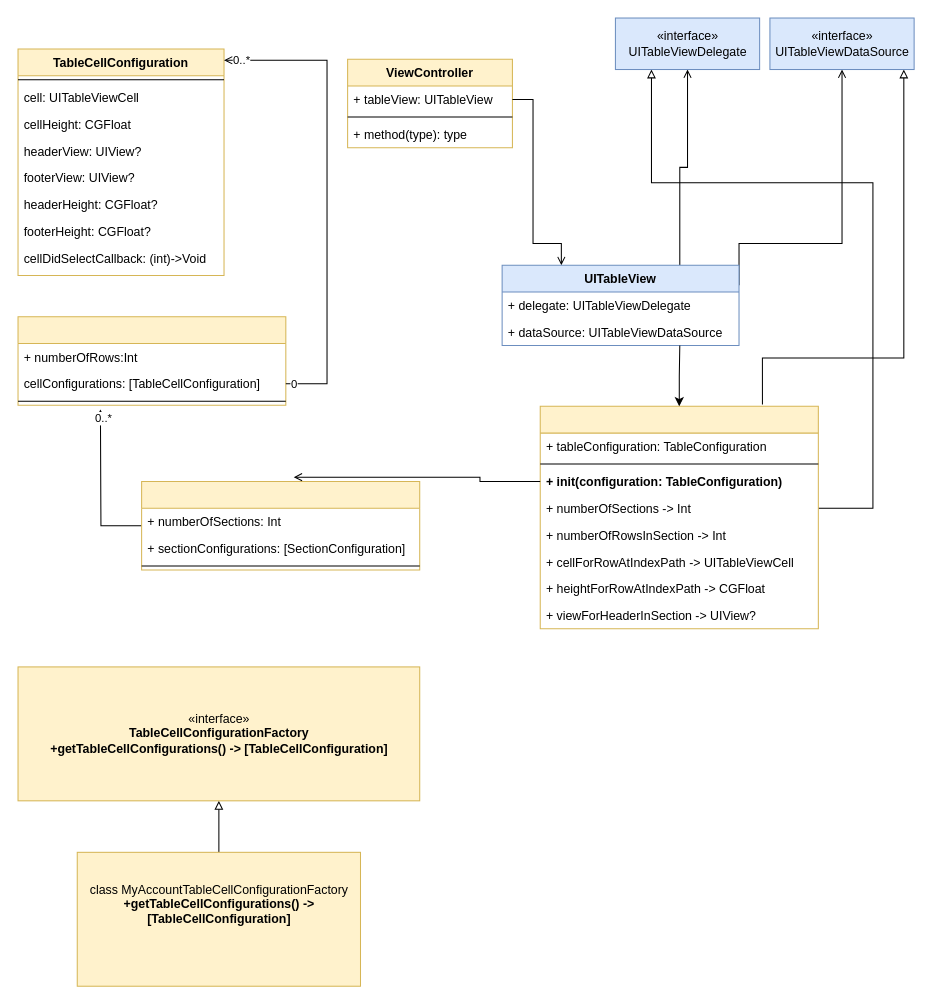
The diagram is 932 pixels wide and 1004 high, and some of its shapes have lost their labels. The box of each missing label's shape, as (x1, y1, x2, y2) in pixels:
SectionConfiguration: (17, 316, 286, 405)
TableConfiguration: (141, 480, 420, 570)
TableViewDelegate: (539, 405, 818, 629)
